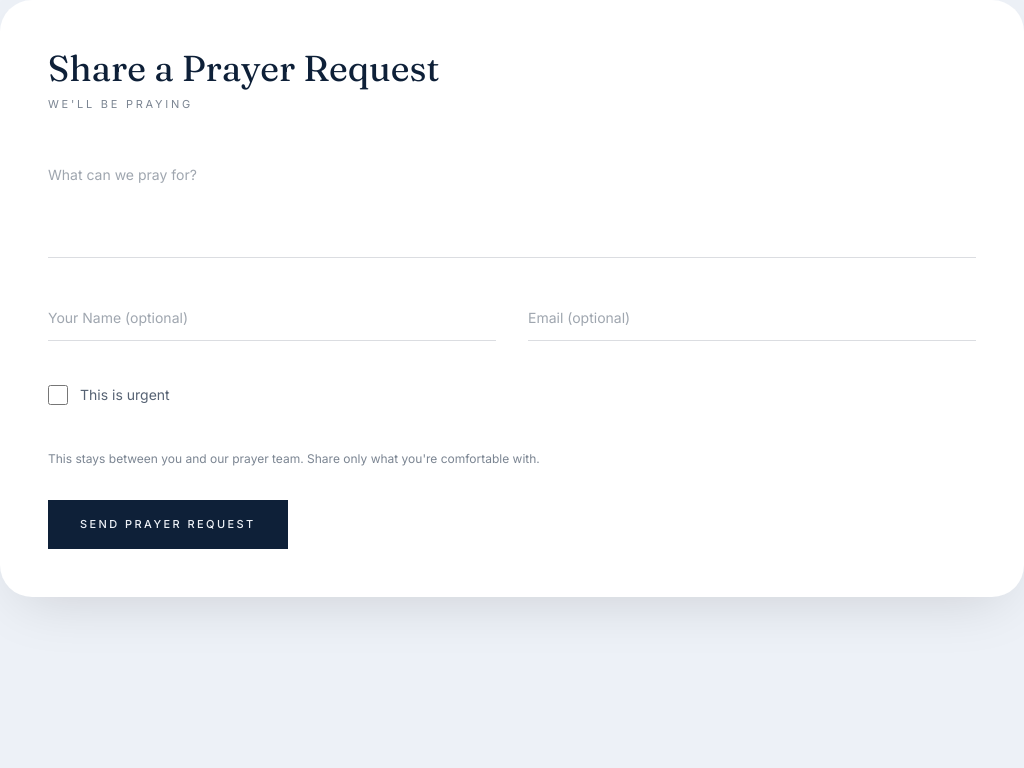
PrayerForm › leaves urgent out of the payload when unchecked
Type "Peace" into the text box labelled "What can we pray for?" at [512, 205], box left=48, top=152, right=976, bottom=258
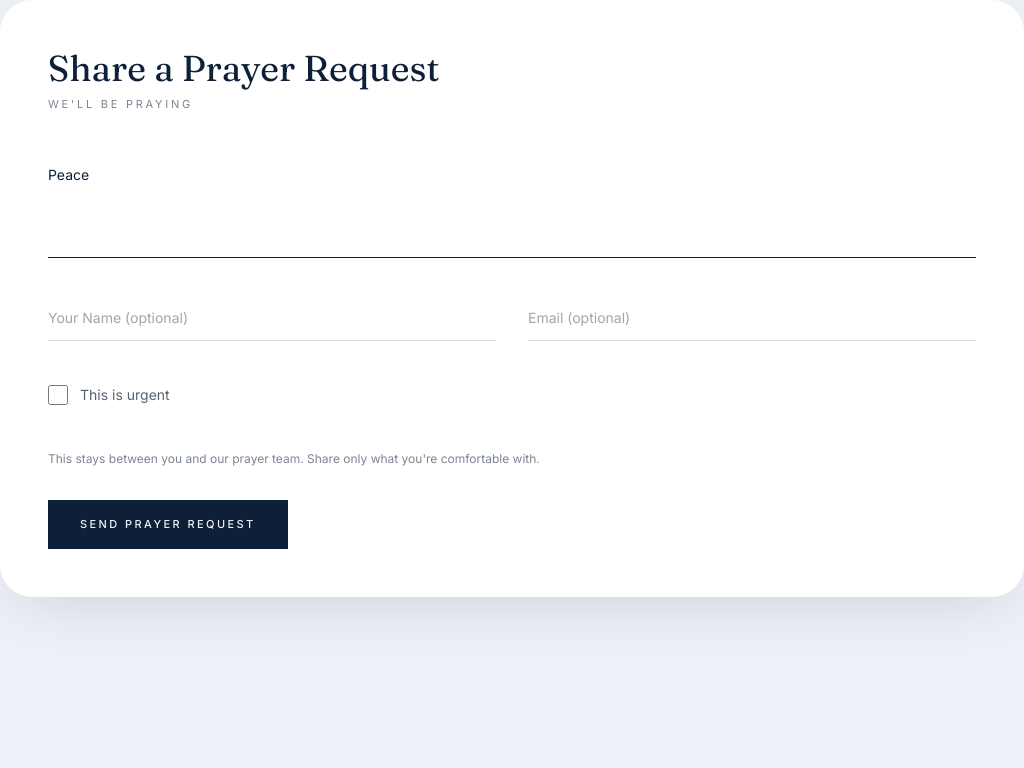
Click the button "Send Prayer Request" at [168, 524], box left=48, top=500, right=288, bottom=548
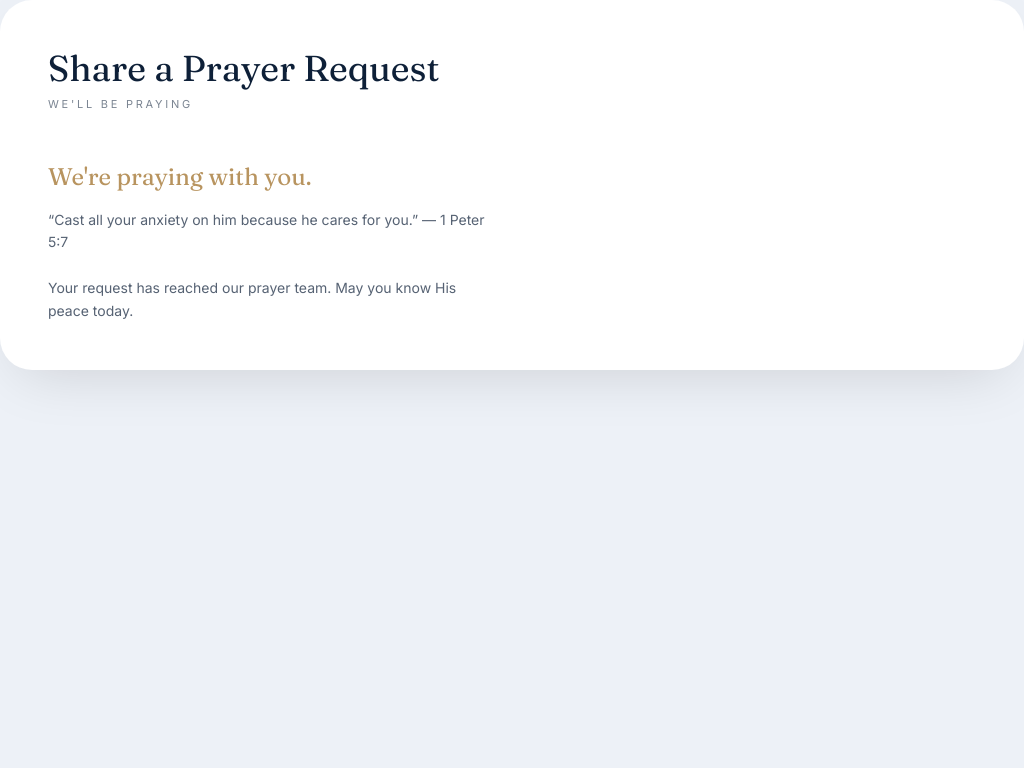
Now the text "We're praying with you." is shown, box left=48, top=162, right=312, bottom=190
